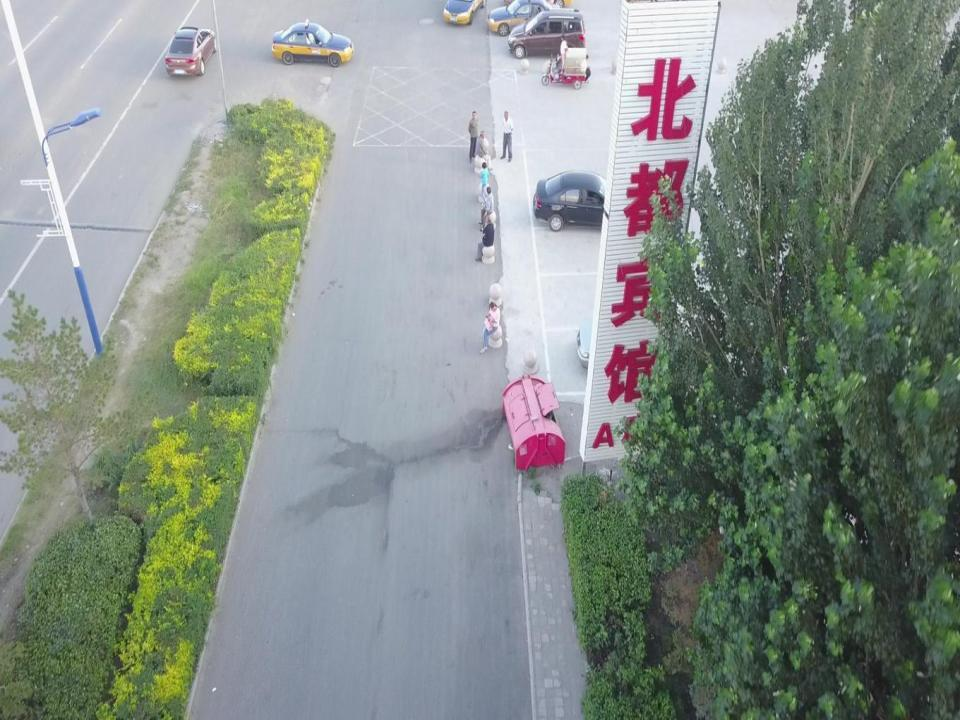car: (532, 170, 636, 231), (271, 19, 354, 67), (509, 10, 584, 60), (487, 0, 563, 37), (164, 25, 217, 76), (442, 0, 487, 27)
